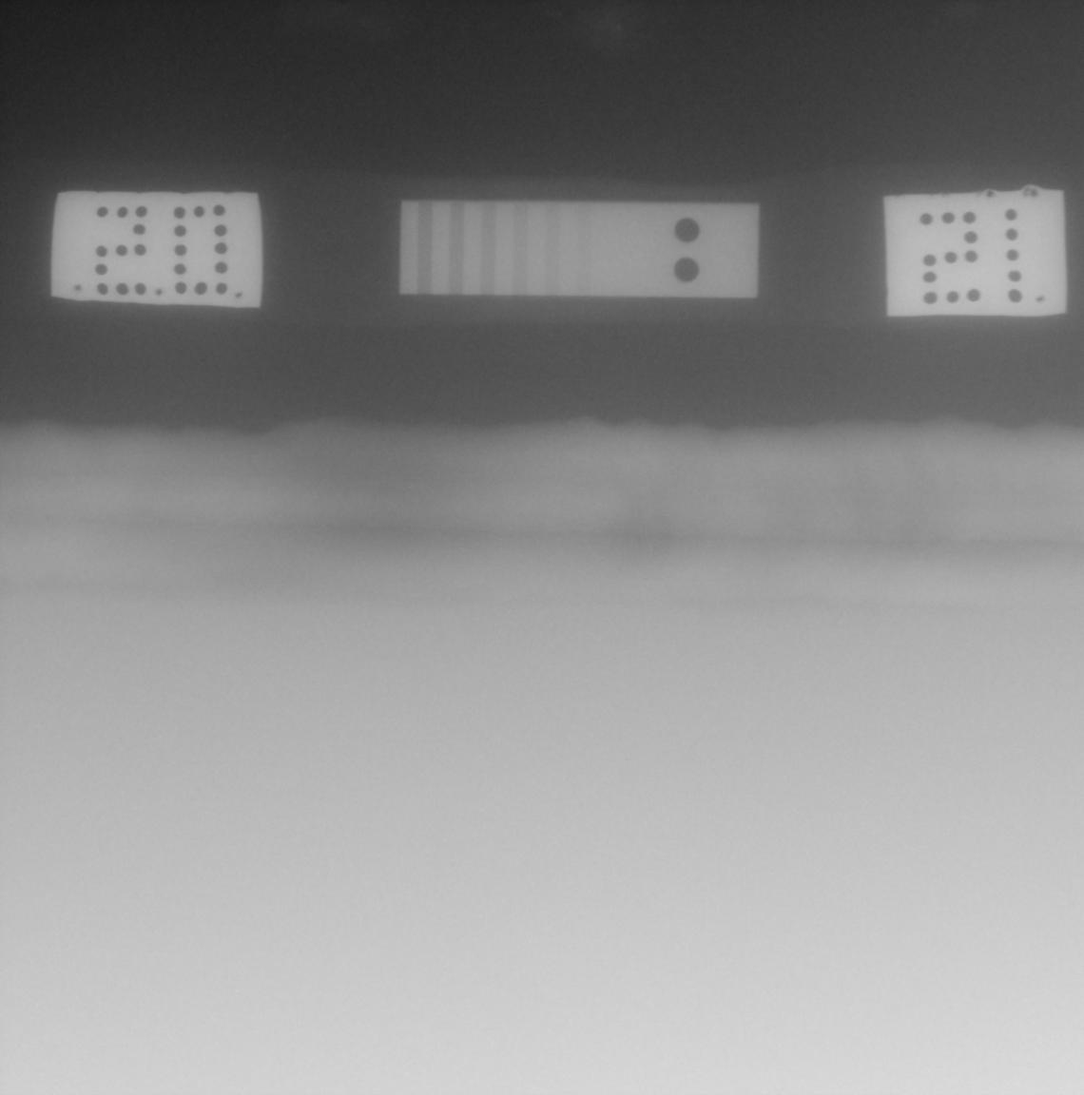Reference Standard 2: (398, 199, 761, 299)
